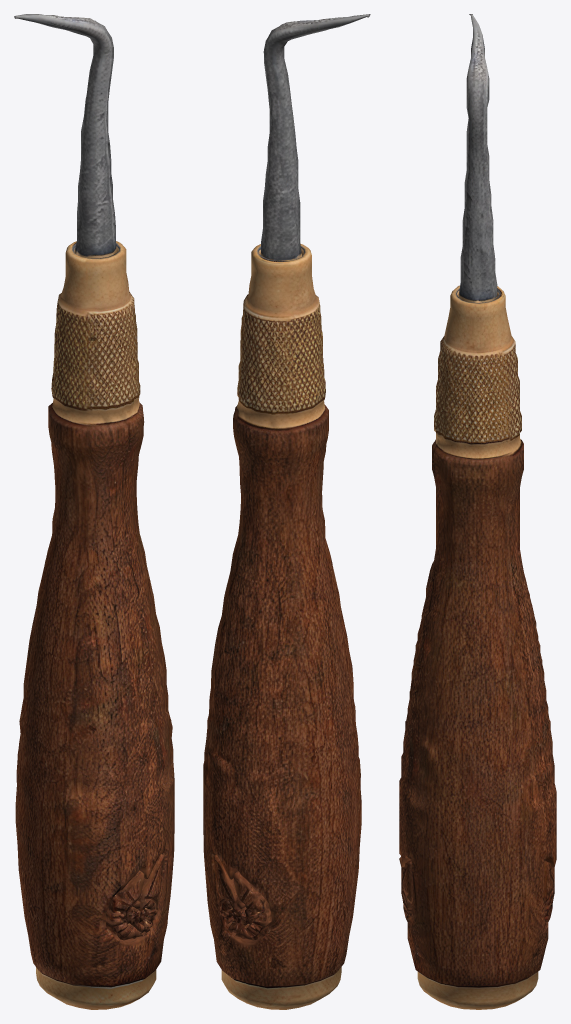
File: pick_low.glb
3 views of the same model, side by side, from view 1: azimuth 30°, elevation 25°; view 2: azimuth 150°, elevation 25°; view 3: azimuth 270°, elevation 25° (orthographic). The views are drawn at different scales.
Parts seen in each view (by area): view 1: tripo_node_5e51ad82-e651-454a-a44a-fb86830d3a52; view 2: tripo_node_5e51ad82-e651-454a-a44a-fb86830d3a52; view 3: tripo_node_5e51ad82-e651-454a-a44a-fb86830d3a52.
Boxes of the visible parts, <box> form: tripo_node_5e51ad82-e651-454a-a44a-fb86830d3a52: <box>14,14,174,1009</box>; tripo_node_5e51ad82-e651-454a-a44a-fb86830d3a52: <box>203,14,370,1009</box>; tripo_node_5e51ad82-e651-454a-a44a-fb86830d3a52: <box>399,14,556,1009</box>.
Bounding box in the file's own units: 0.1551 × 0.9785 × 0.1474.
1 material, 1 textured.
